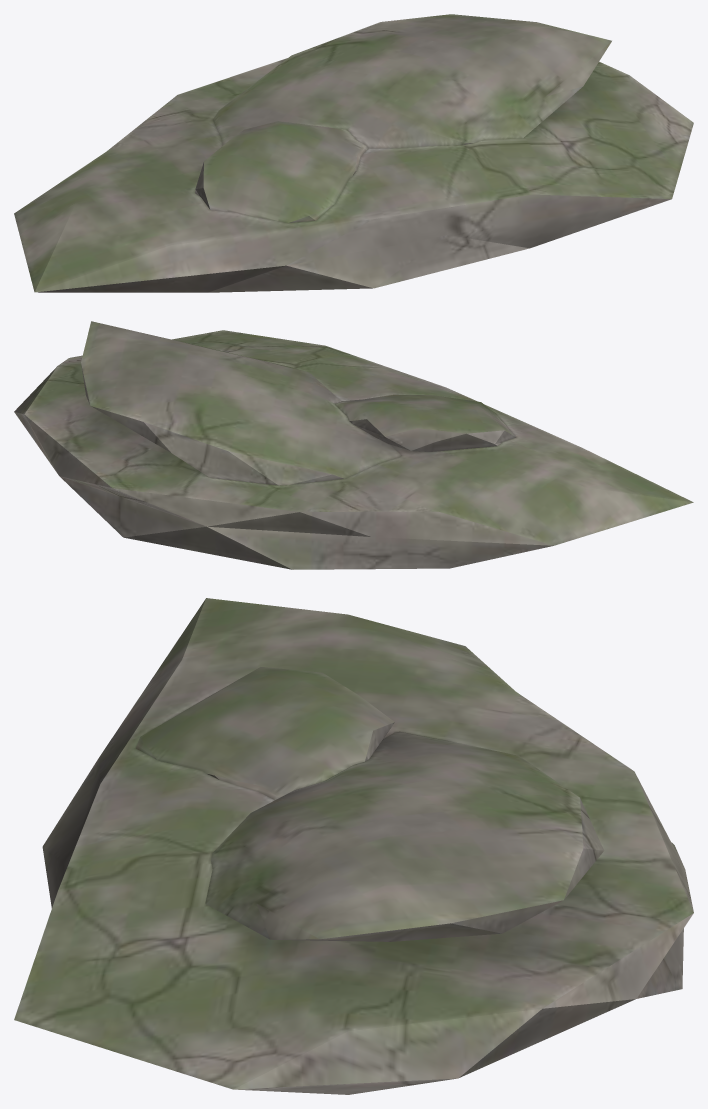
The model's file is slab.glb.
The picture shows the model from 3 angles, top to bottom: view 1: azimuth 30°, elevation 25°; view 2: azimuth 150°, elevation 25°; view 3: azimuth 270°, elevation 25°; orthographic projection. The views are drawn at different scales.
Visible parts, largest first — view 1: Slab; view 2: Slab; view 3: Slab.
Boxes of the visible parts, x1,y1,x2,y2 form: Slab: [14, 14, 693, 292]; Slab: [14, 321, 693, 569]; Slab: [14, 598, 693, 1094].
Bounding box in the file's own units: 4.14 × 0.7007 × 2.42.
1 material, 1 textured.
